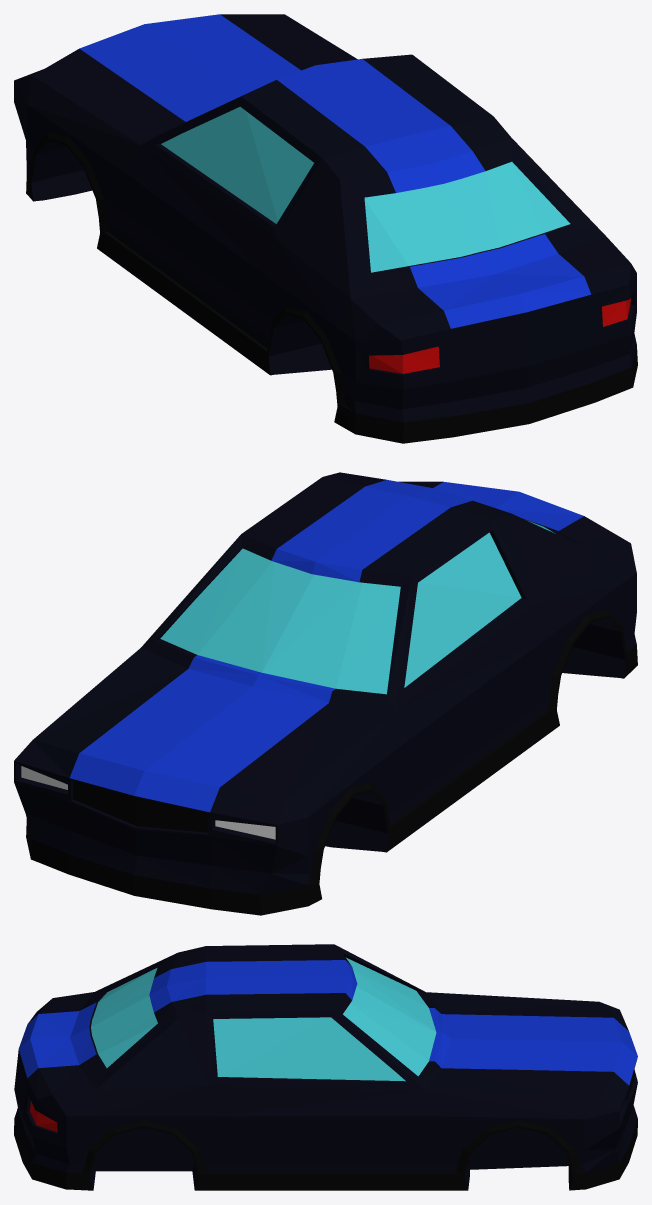
The model's file is car.obj.
The picture shows the model from 3 angles, top to bottom: view 1: azimuth 30°, elevation 25°; view 2: azimuth 150°, elevation 25°; view 3: azimuth 270°, elevation 25°; orthographic projection. The views are drawn at different scales.
Parts seen in each view (by area): view 1: Cube; view 2: Cube; view 3: Cube.
Part boxes in pixels (x1,y1,x2,y2): Cube: (14,14,637,443); Cube: (14,472,637,915); Cube: (14,944,637,1190).
Bounding box in the file's own units: 1.07 × 0.7468 × 2.53.
